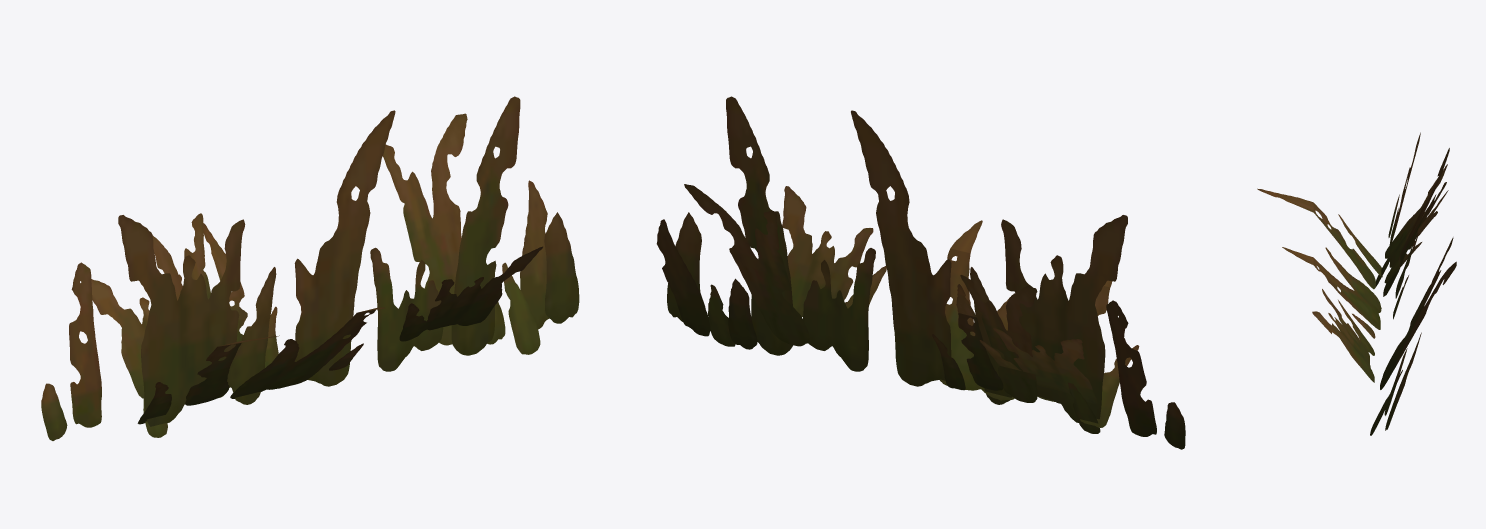
File: grass_dead_06.fbx
The picture shows the model from 3 angles, left to right: view 1: azimuth 30°, elevation 25°; view 2: azimuth 150°, elevation 25°; view 3: azimuth 270°, elevation 25°; orthographic projection. The views are drawn at different scales.
Visible parts, largest first — view 1: obj0.312; view 2: obj0.312; view 3: obj0.312.
Part boxes in pixels (bbox=[...]): obj0.312: bbox=[41, 96, 579, 440]; obj0.312: bbox=[656, 96, 1185, 449]; obj0.312: bbox=[1257, 132, 1456, 435].
Bounding box in the file's own units: 1.52 × 1 × 0.6924.
